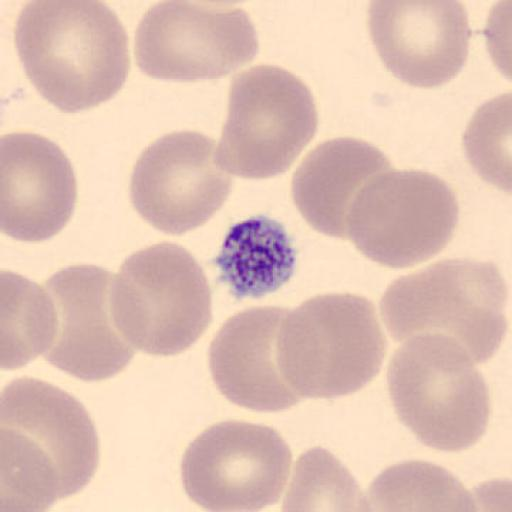Platelet: (212, 212, 300, 303)
RBC: (378, 255, 511, 368), (10, 0, 132, 116), (2, 374, 102, 504), (385, 332, 491, 454), (274, 292, 388, 402), (110, 239, 214, 359), (36, 260, 136, 384), (216, 63, 320, 181), (128, 127, 236, 238), (345, 167, 461, 270), (290, 135, 396, 242), (206, 305, 309, 414), (132, 0, 262, 85), (178, 417, 294, 512), (365, 0, 472, 90), (2, 130, 78, 244), (278, 444, 375, 512), (363, 457, 479, 512), (2, 268, 58, 372), (461, 89, 512, 195), (1, 426, 59, 512), (482, 0, 512, 86), (468, 475, 512, 512)
